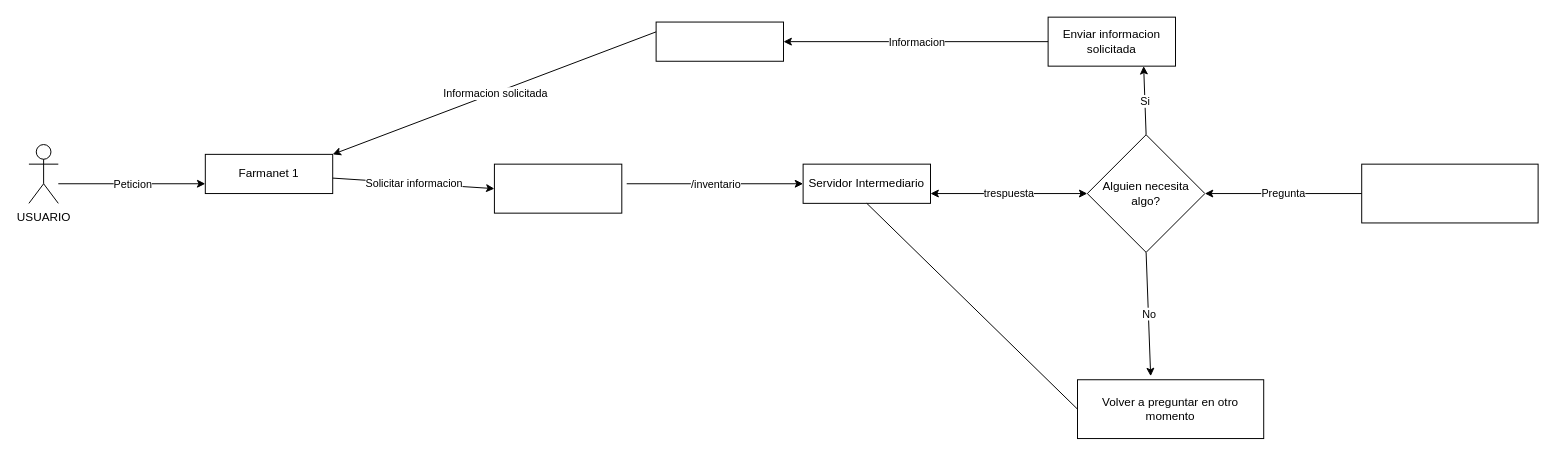
This 1555x456 diagram has some shape labels left out. The shapes that lost their labels are listed below. From the top down, each one's centre as x and y in pixels, then its label:
the point at 719,41: Servidor intermediario Guarda la info
the point at 557,188: Request en Nestjs
the point at 1449,193: Farmanet 2
